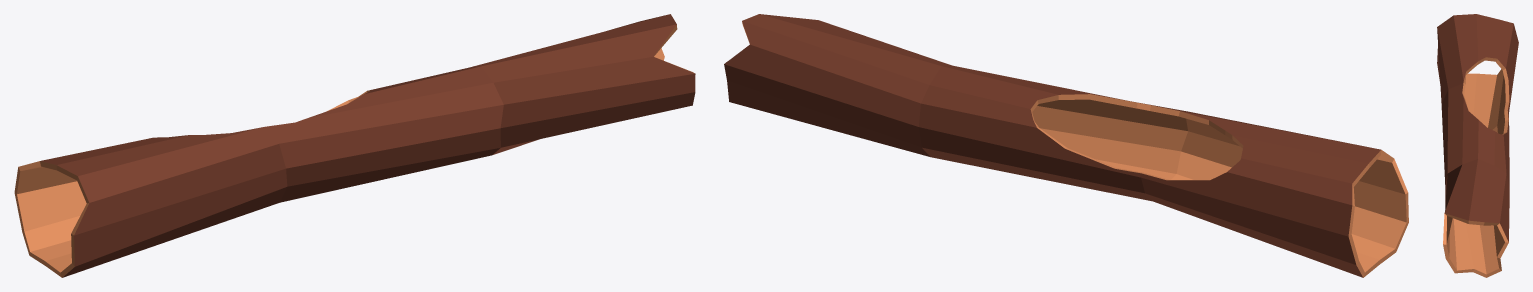
Rendered from pine_trunk_type_11_LOD0.fbx.
3 renders of one model, left to right at view 1: azimuth 30°, elevation 25°; view 2: azimuth 150°, elevation 25°; view 3: azimuth 270°, elevation 25°, orthographic. The views are drawn at different scales.
Visible parts, largest first — view 1: pt_type_11; view 2: pt_type_11; view 3: pt_type_11.
Boxes of the visible parts, <box> form: pt_type_11: <box>14,14,695,277</box>; pt_type_11: <box>724,14,1408,277</box>; pt_type_11: <box>1437,14,1518,277</box>.
Size of the model in its own units: 794 by 119 by 131.
